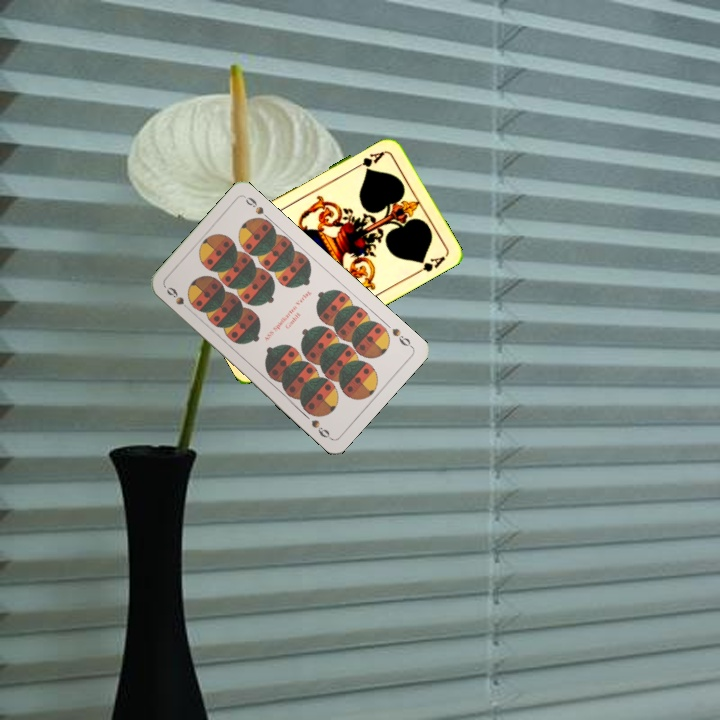GA: (351, 147, 388, 172)
S9: (162, 283, 194, 314), (388, 324, 415, 350)
